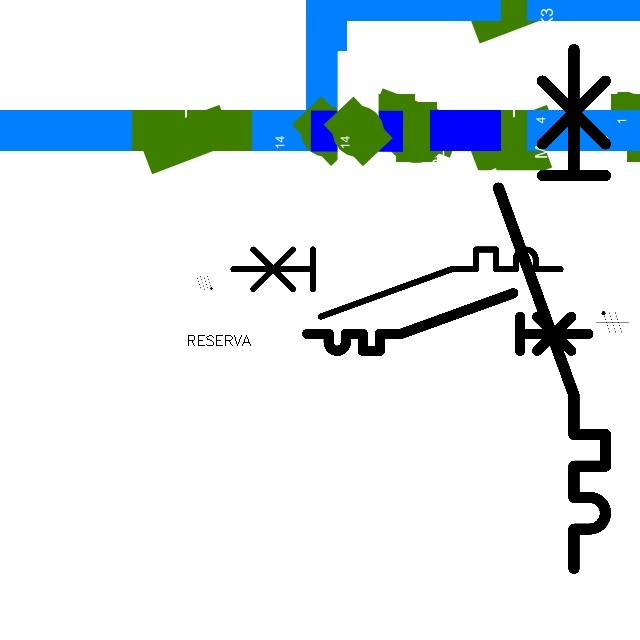interruptor_termomagnetico: (485, 36, 619, 582), (224, 241, 568, 325), (300, 286, 595, 358)
